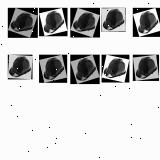Helmet: (104, 56, 126, 78), (9, 56, 31, 78), (136, 57, 157, 79), (138, 11, 158, 34), (76, 58, 96, 81), (44, 57, 64, 80), (103, 9, 124, 30), (44, 11, 64, 33), (73, 12, 96, 31), (11, 13, 33, 32)
